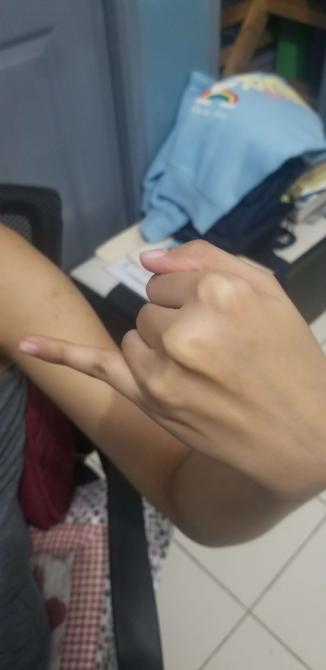j: (18, 233, 326, 462)
